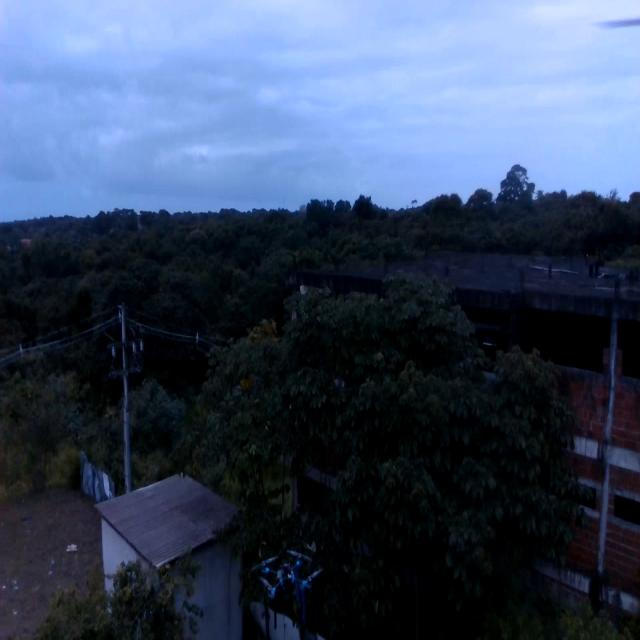-uav-: (252, 544, 326, 616)
